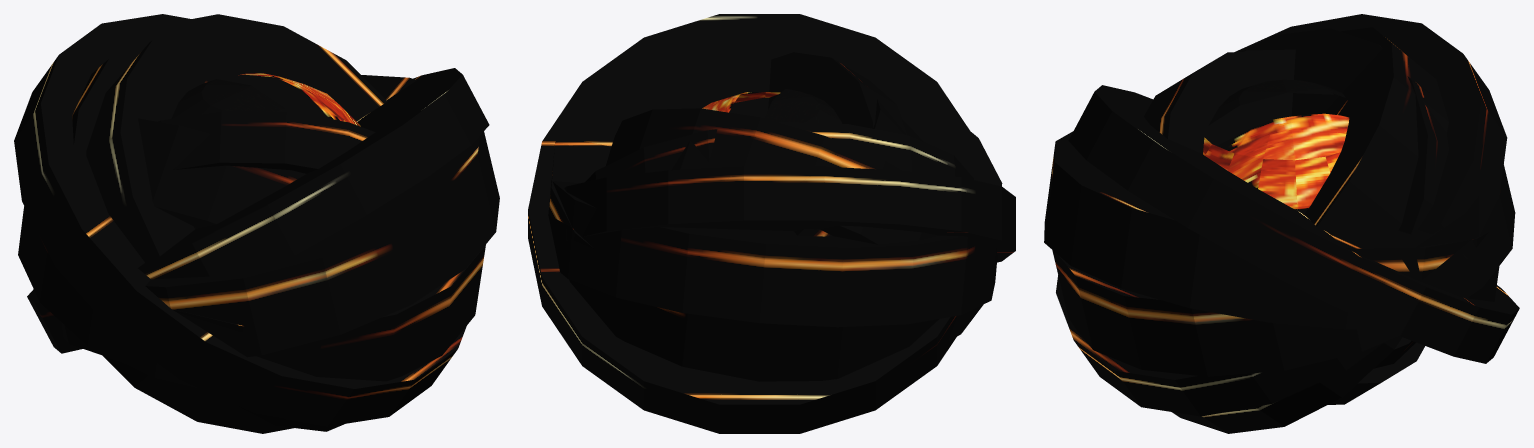
File: frame_076.obj
3 renders of one model, left to right at view 1: azimuth 30°, elevation 25°; view 2: azimuth 150°, elevation 25°; view 3: azimuth 270°, elevation 25°, orthographic. The views are drawn at different scales.
Parts seen in each view (by area): view 1: cylinder, sphere; view 2: cylinder, sphere; view 3: cylinder, sphere.
Boxes of the visible parts, box(x1,y1,x2,y2) form: cylinder: box(14, 14, 499, 433); sphere: box(171, 73, 360, 229); cylinder: box(528, 14, 1015, 433); sphere: box(702, 88, 842, 123); cylinder: box(1044, 14, 1519, 433); sphere: box(1203, 79, 1349, 213).
Bounding box in the file's own units: 1.1 × 0.8038 × 1.06.
Materials: 5 (5 with a texture image).
